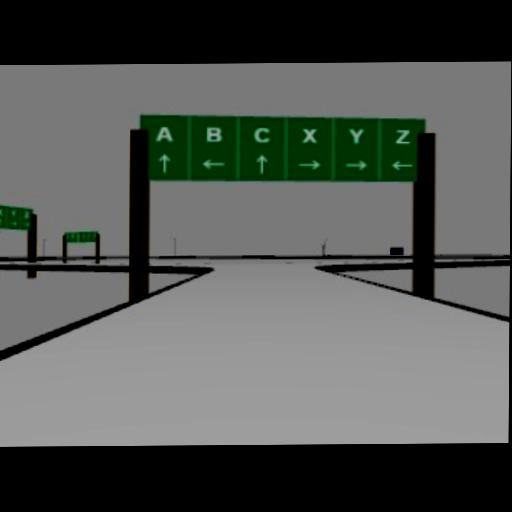A: (154, 125, 174, 142)
B: (206, 126, 224, 143)
C: (252, 125, 270, 143)
Left: (200, 158, 225, 171), (389, 160, 412, 170)
Right: (344, 158, 367, 170), (296, 161, 321, 171)
Straight: (157, 152, 170, 172), (255, 154, 268, 174)
X: (301, 127, 317, 142)
Y: (348, 127, 364, 144), (0, 218, 2, 226)
Z: (394, 128, 412, 144), (6, 206, 18, 228), (0, 206, 10, 224), (23, 220, 31, 230), (22, 210, 29, 220), (10, 208, 17, 216), (0, 208, 2, 216)
